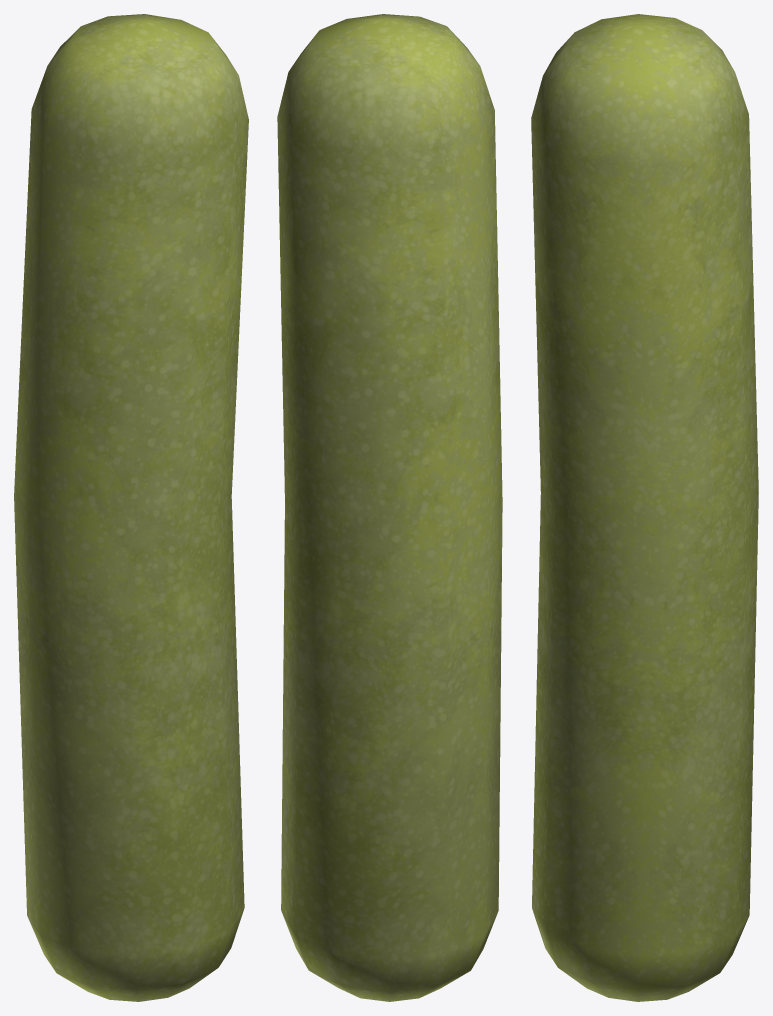
Rendered from Bakterija5Lactobacillus.fbx.
3 views of the same model, side by side, from view 1: azimuth 30°, elevation 25°; view 2: azimuth 150°, elevation 25°; view 3: azimuth 270°, elevation 25° (orthographic).
Parts seen in each view (by area): view 1: Lactobacillus; view 2: Lactobacillus; view 3: Lactobacillus.
Boxes of the visible parts, box(x1,y1,x2,y2) form: Lactobacillus: box(14, 14, 248, 1001); Lactobacillus: box(277, 14, 502, 1001); Lactobacillus: box(531, 14, 758, 1001).
Size of the model in its own units: 213 by 982 by 209.
